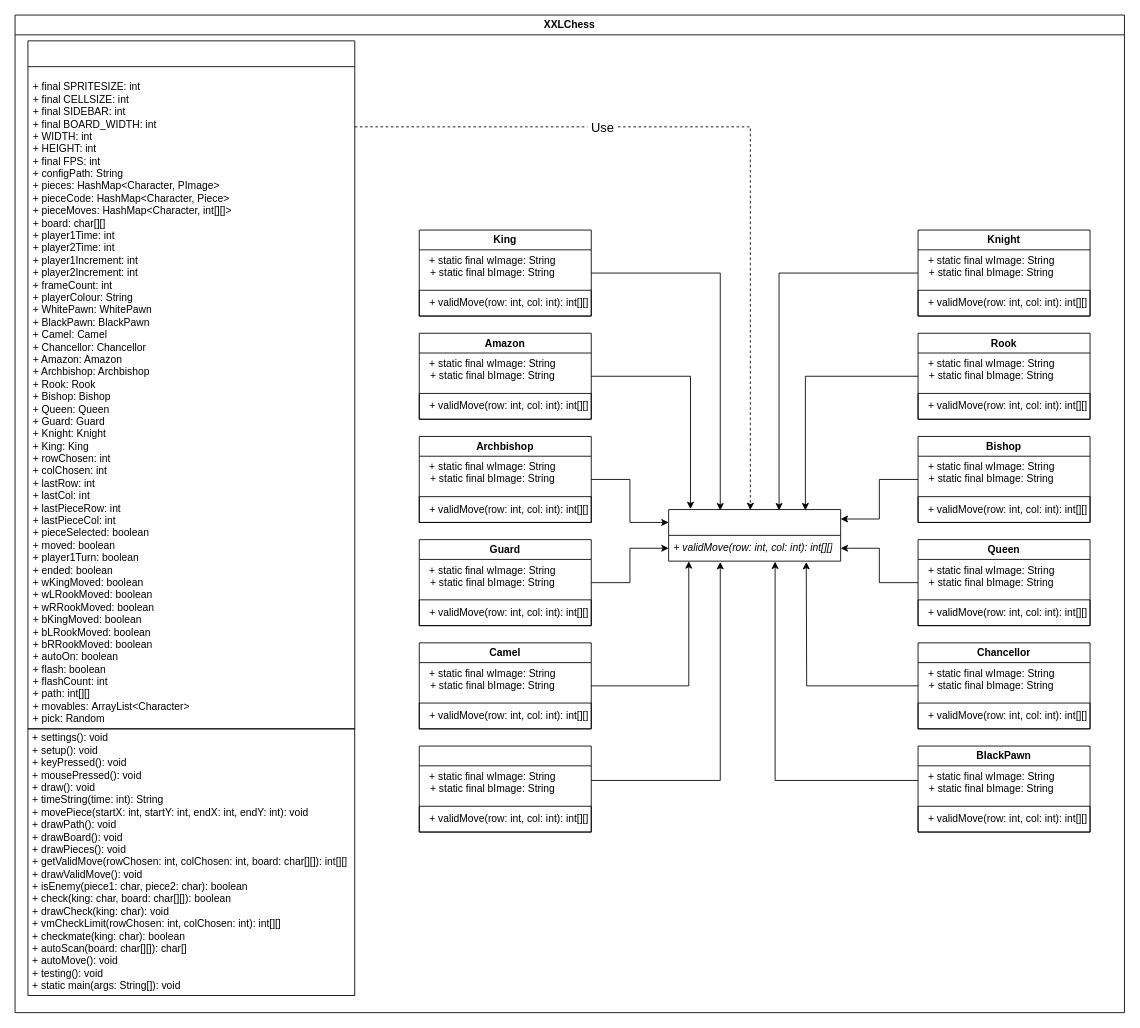
Some shapes in this 1140 by 1028 pixel diagram are drawn without their labels. Here are the shapes that lost their labels. From the top down, the box of each, then its label:
(27, 40, 355, 729): App
(668, 509, 841, 561): Piece
(418, 745, 591, 832): WhitePawn
